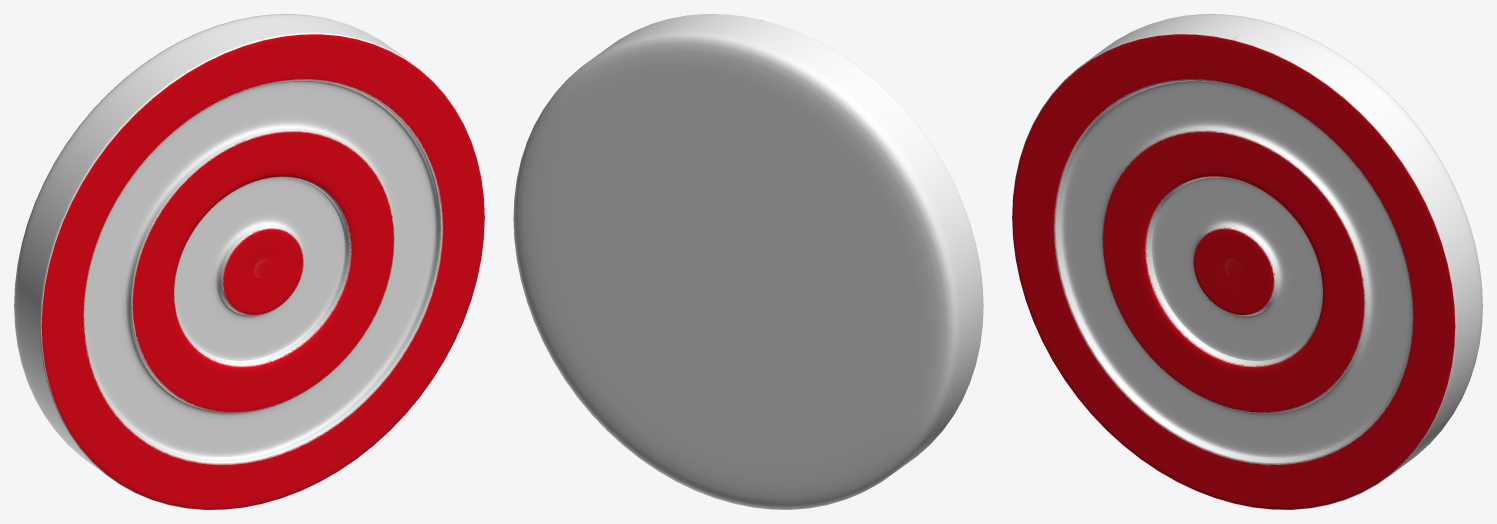
File: TargetNoStand.fbx
The picture shows the model from 3 angles, left to right: view 1: azimuth 30°, elevation 25°; view 2: azimuth 150°, elevation 25°; view 3: azimuth 330°, elevation 25°; orthographic projection.
Visible parts, largest first — view 1: Targetw/oStand; view 2: Targetw/oStand; view 3: Targetw/oStand.
Boxes of the visible parts, x1,y1,x2,y2 form: Targetw/oStand: (14, 14, 484, 509); Targetw/oStand: (513, 14, 983, 509); Targetw/oStand: (1012, 14, 1482, 509).
Bounding box in the file's own units: 2.46 × 2.46 × 0.3126.
